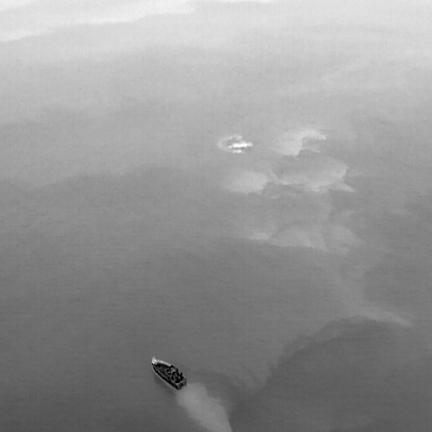flukeprints: (227, 142, 252, 153)
